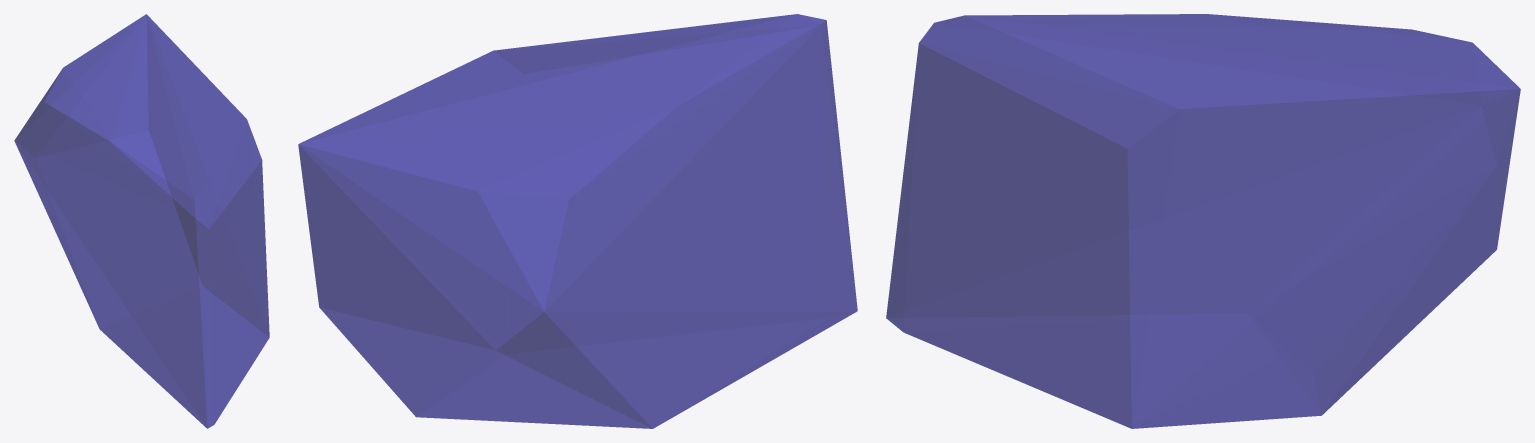
The picture shows the model from 3 angles, left to right: view 1: azimuth 30°, elevation 25°; view 2: azimuth 150°, elevation 25°; view 3: azimuth 270°, elevation 25°; orthographic projection. The views are drawn at different scales.
Parts seen in each view (by area): view 1: Shape_IndexedFaceSet.013_Shape_IndexedFaceSet.17991; view 2: Shape_IndexedFaceSet.013_Shape_IndexedFaceSet.17991; view 3: Shape_IndexedFaceSet.013_Shape_IndexedFaceSet.17991.
Part boxes in pixels (x1,y1,x2,y2): Shape_IndexedFaceSet.013_Shape_IndexedFaceSet.17991: [14, 14, 269, 428]; Shape_IndexedFaceSet.013_Shape_IndexedFaceSet.17991: [298, 14, 857, 428]; Shape_IndexedFaceSet.013_Shape_IndexedFaceSet.17991: [886, 14, 1520, 428].
Size of the model in its own units: 0.1297 by 0.1892 by 0.3162.
